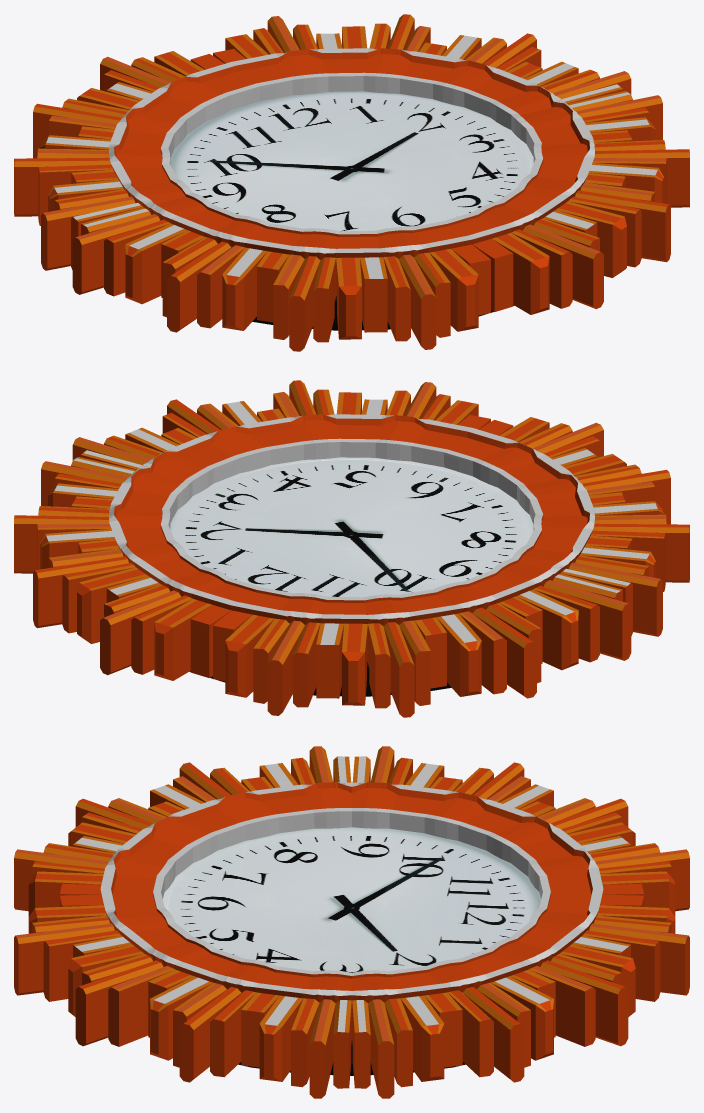
File: Clock.obj
3 views of the same model, one above another, from view 1: azimuth 30°, elevation 25°; view 2: azimuth 150°, elevation 25°; view 3: azimuth 270°, elevation 25° (orthographic). The views are drawn at different scales.
Parts seen in each view (by area): view 1: Cylinder.002, Circle.002_Circle.003; view 2: Cylinder.002, Circle.002_Circle.003; view 3: Cylinder.002, Circle.002_Circle.003.
Boxes of the visible parts, x1,y1,x2,y2 form: Cylinder.002: (14, 14, 689, 351); Circle.002_Circle.003: (170, 91, 533, 231); Cylinder.002: (14, 380, 689, 717); Circle.002_Circle.003: (170, 457, 533, 597); Cylinder.002: (14, 746, 689, 1098); Circle.002_Circle.003: (163, 827, 540, 972).
Size of the model in its own units: 2.86 by 0.3522 by 2.76.
